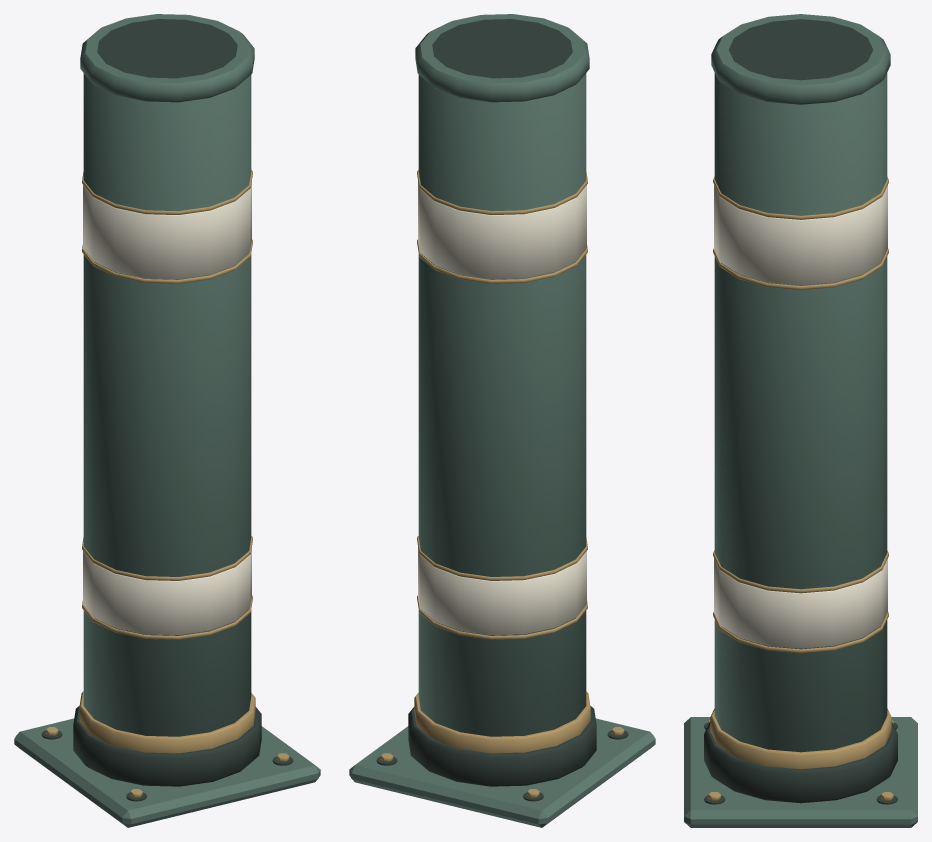
File: pillar.glb
3 renders of one model, left to right at view 1: azimuth 30°, elevation 25°; view 2: azimuth 150°, elevation 25°; view 3: azimuth 270°, elevation 25°, orthographic. The views are drawn at different scales.
Visible parts, largest first — view 1: Training | powder coated dark sage, Training | reflective warm ivory bands, Training | graphite hardware, Training | brushed champagne trim; view 2: Training | powder coated dark sage, Training | reflective warm ivory bands, Training | graphite hardware, Training | brushed champagne trim; view 3: Training | powder coated dark sage, Training | reflective warm ivory bands, Training | graphite hardware, Training | brushed champagne trim.
Part boxes in pixels (x1,y1,x2,y2): Training | powder coated dark sage: (14,14,320,827); Training | reflective warm ivory bands: (83,181,251,635); Training | graphite hardware: (41,19,293,801); Training | brushed champagne trim: (45,170,289,797); Training | powder coated dark sage: (349,14,655,827); Training | reflective warm ivory bands: (418,181,586,635); Training | graphite hardware: (376,19,628,801); Training | brushed champagne trim: (380,170,624,797); Training | powder coated dark sage: (684,14,917,827); Training | reflective warm ivory bands: (714,185,887,648); Training | graphite hardware: (704,19,897,804); Training | brushed champagne trim: (708,177,893,800).
Size of the model in its own units: 0.42 by 1.45 by 0.42.
